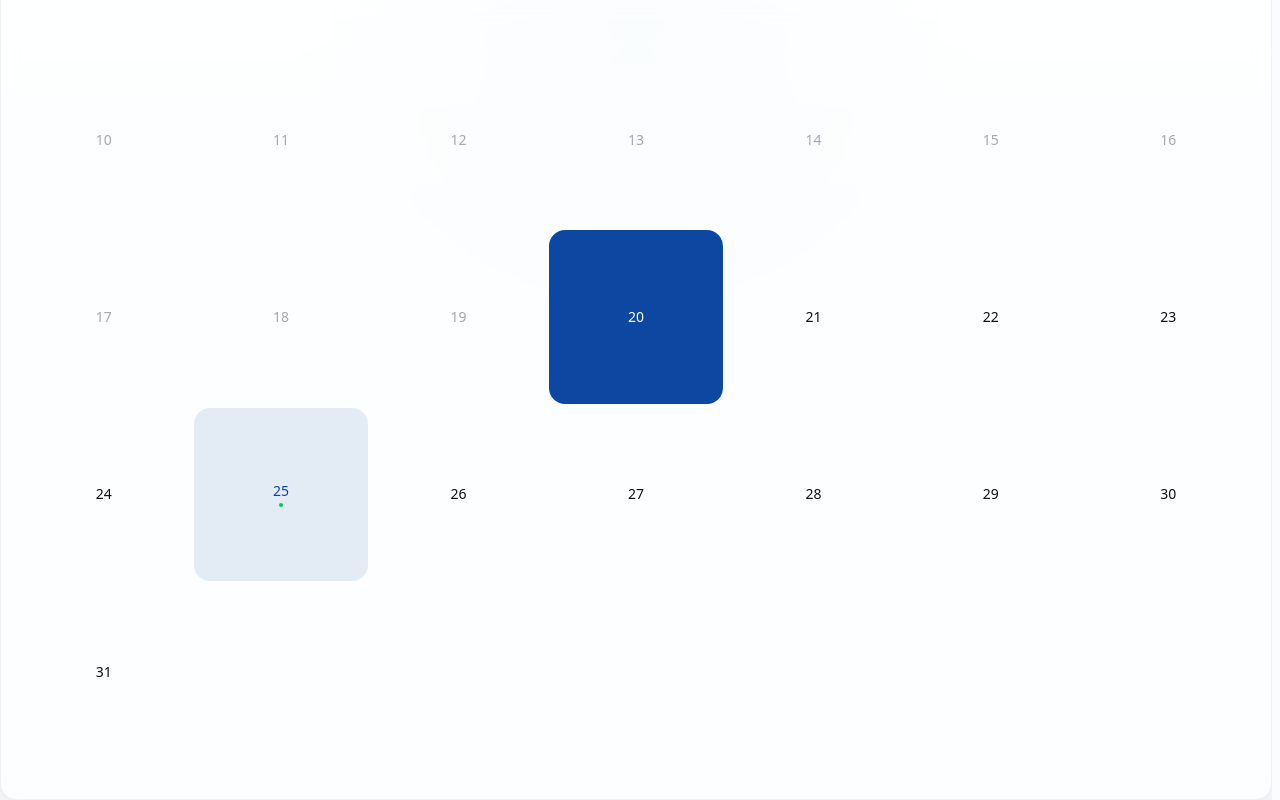
PlayerBookingsPage › shows opening-day overnight bookings on the real Cairo date in the calendar
Later steps or results of the test are not shown.
(page scrolled)
Click the button "25". click: [281, 494]
box: [194, 408, 368, 581]
(page scrolled)
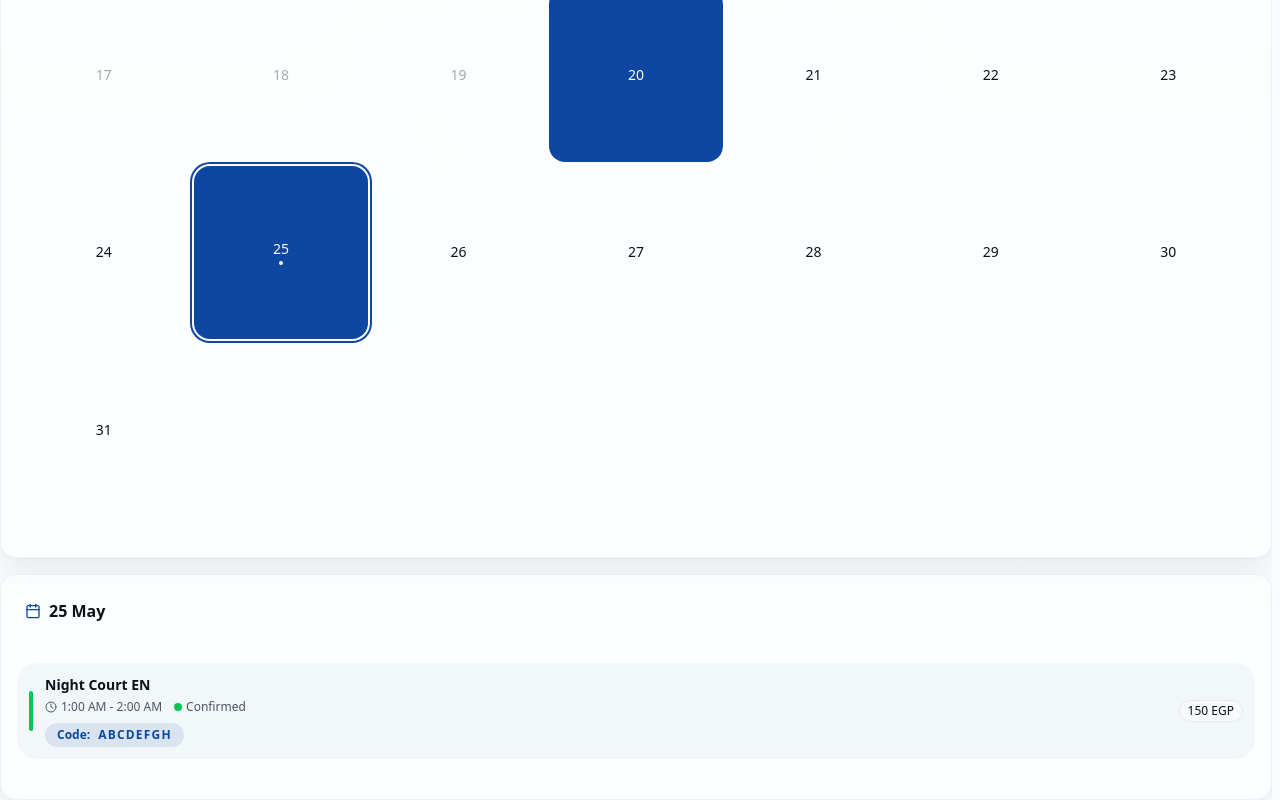
Expected: the button "Night Court EN" is shown, [17, 663, 1255, 759]
